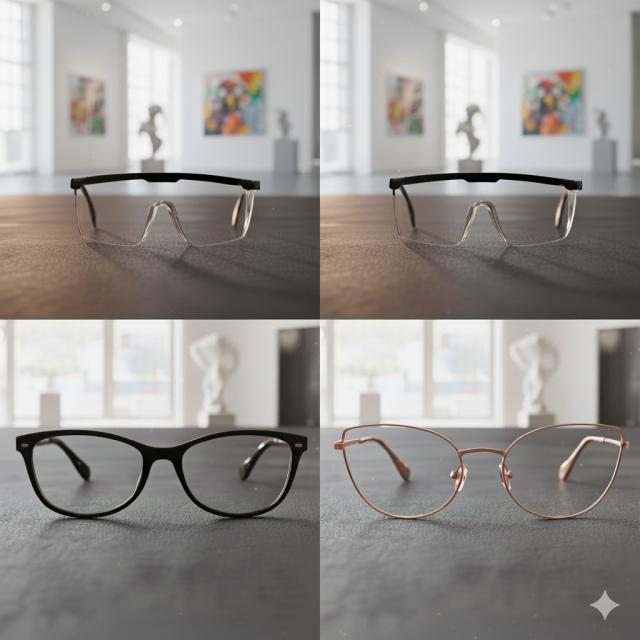oculos-epi: (388, 174, 583, 246), (71, 174, 261, 246)
sem_oculos: (334, 426, 628, 519), (17, 430, 307, 518)
